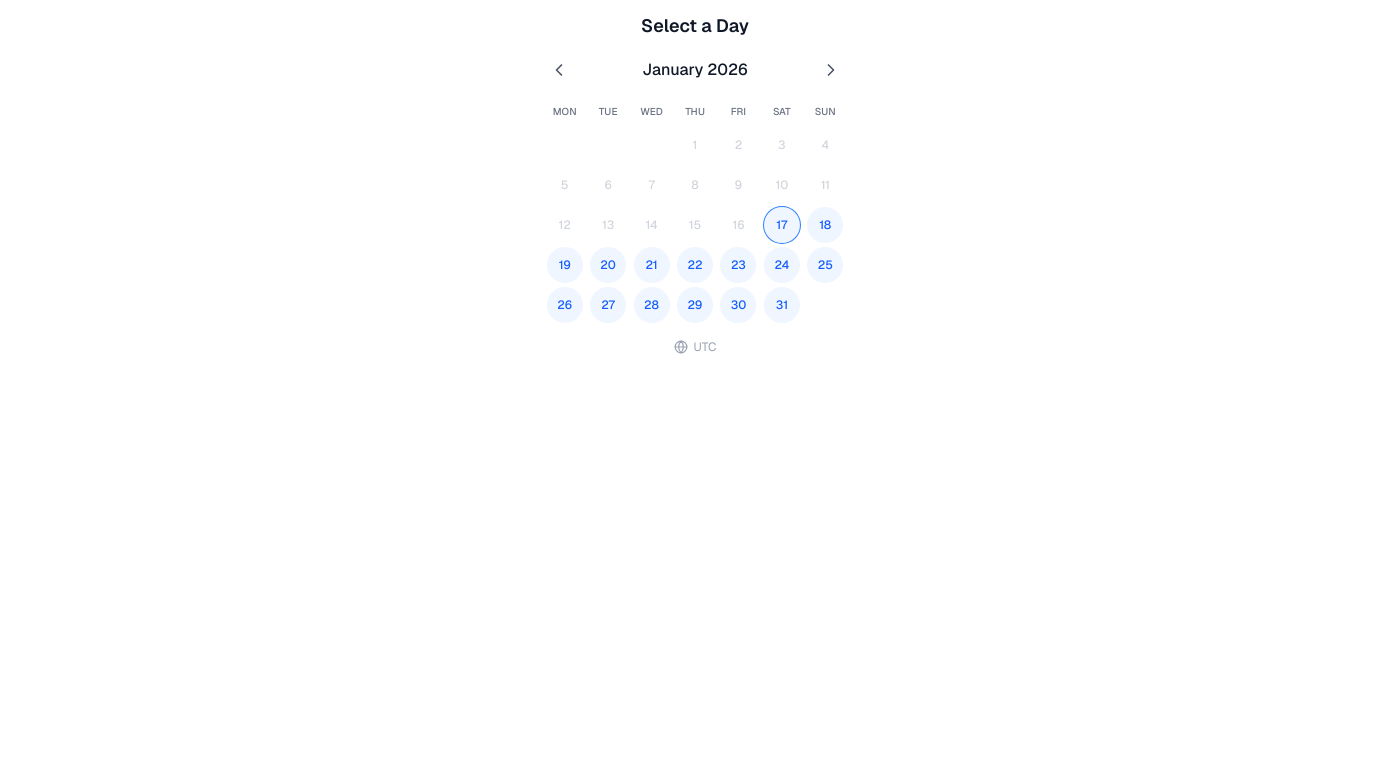
Test: BookingForm › Time Selection (Step 2) › should display service duration
Click the button "31" at (782, 305), box [764,287,800,323]
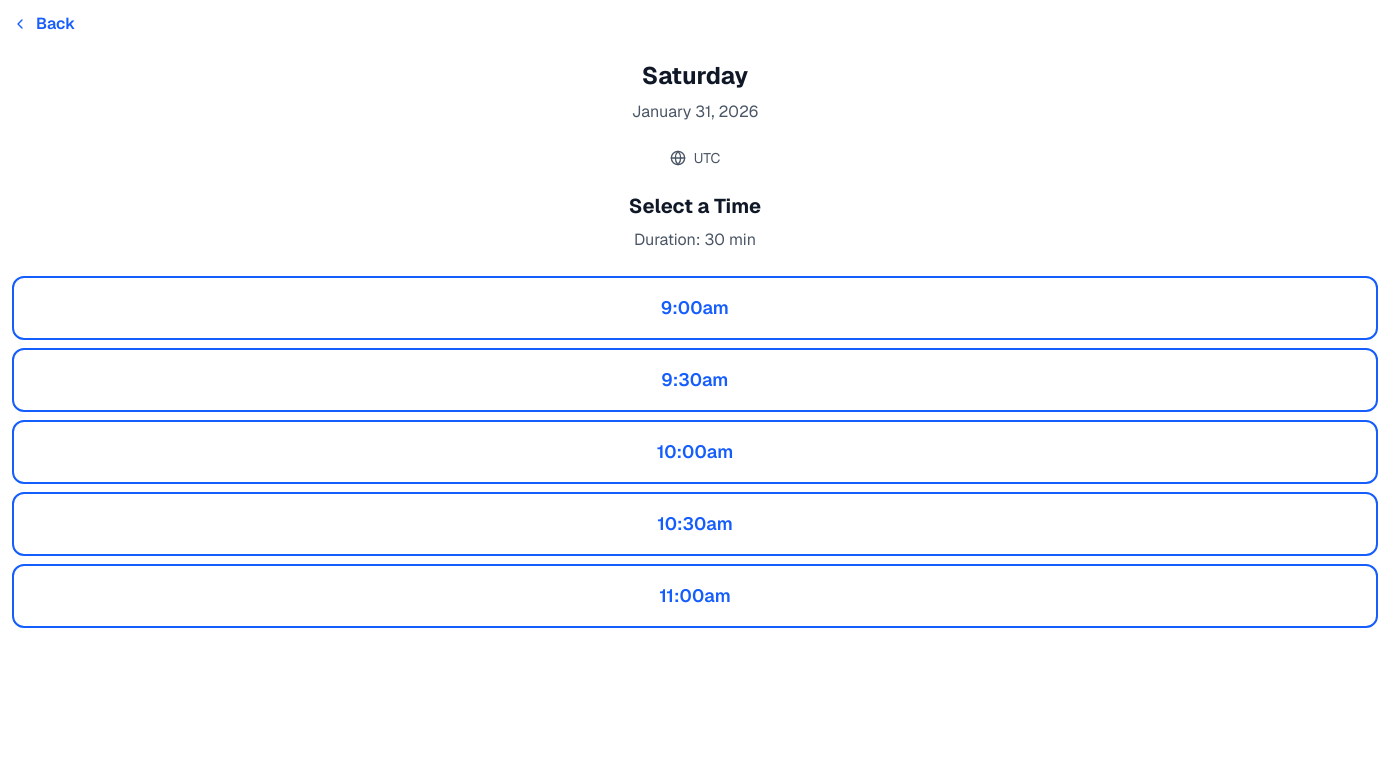
expect the text "Duration: 30 min" is shown: met, box [634,229,756,250]
